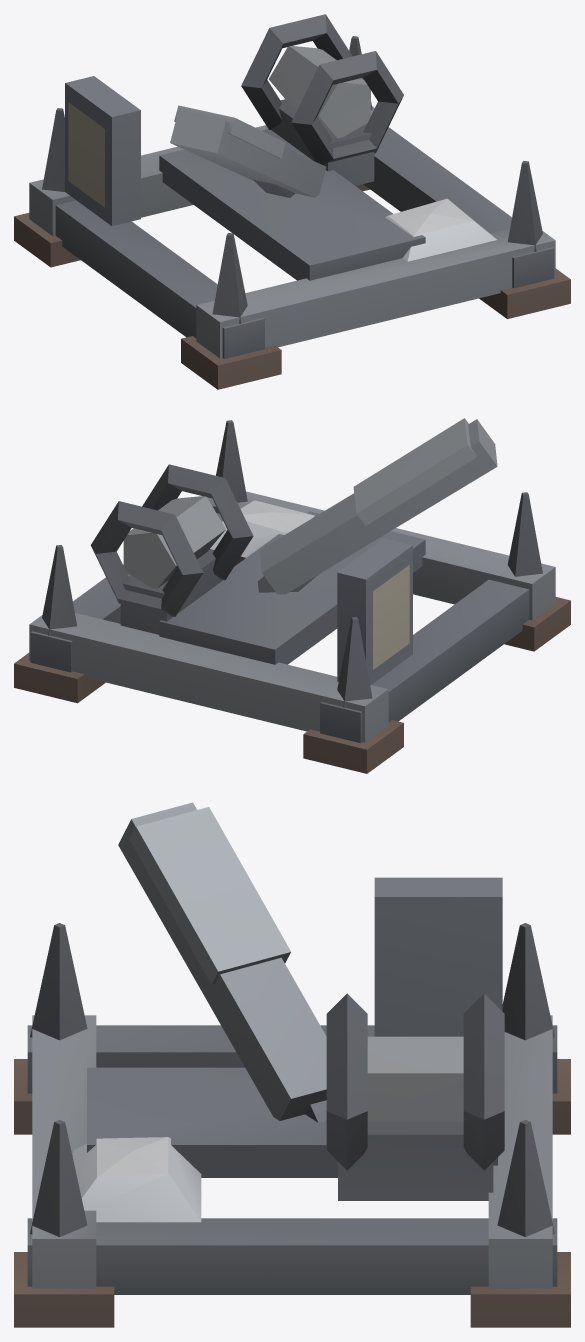
File: winch.lod1.glb
The picture shows the model from 3 angles, top to bottom: view 1: azimuth 30°, elevation 25°; view 2: azimuth 150°, elevation 25°; view 3: azimuth 270°, elevation 25°; orthographic projection. The views are drawn at different scales.
Size of the model in its own units: 1.22 by 0.742 by 1.22.
